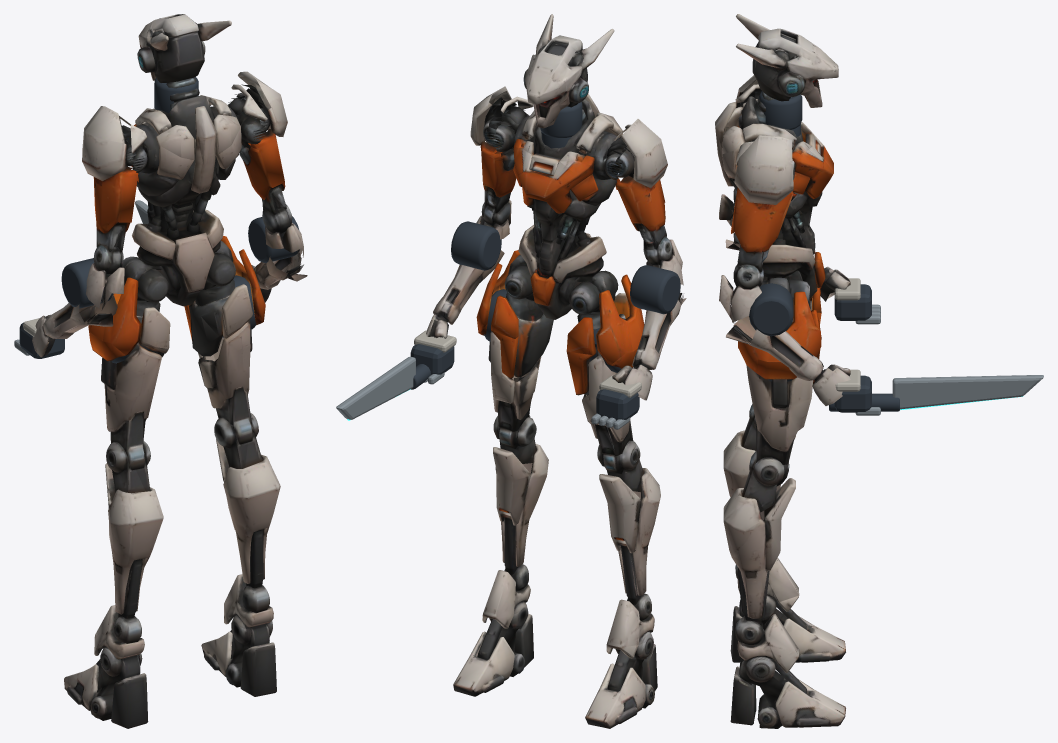
Rendered from assault-mech.glb.
3 renders of one model, left to right at view 1: azimuth 30°, elevation 25°; view 2: azimuth 150°, elevation 25°; view 3: azimuth 270°, elevation 25°, orthographic. The views are drawn at different scales.
Visible parts, largest first — view 1: Torso, Helmet, LeftShinMesh, RightShinMesh, LeftUpperArmMesh, LeftThighMesh, RightThighMesh, RightUpperArmMesh, LeftFootMesh, RightFootMesh, LeftForearmMesh, RightForearmMesh (+4 smaller); view 2: Torso, Helmet, LeftShinMesh, RightShinMesh, LeftUpperArmMesh, RightThighMesh, RightFootMesh, LeftFootMesh, RightUpperArmMesh, LeftThighMesh, LeftForearmMesh, Blade (+6 smaller); view 3: RightShinMesh, Torso, Helmet, RightUpperArmMesh, RightThighMesh, RightFootMesh, Blade, RightForearmMesh, LeftFootMesh, LeftShinMesh, Elbow socket.001, Head_Graphite_frame (+4 smaller).
Boxes of the visible parts, box(x1,y1,x2,y2) form: Torso: box(88, 122, 265, 355); Helmet: box(119, 14, 267, 164); LeftShinMesh: box(94, 452, 163, 662); RightShinMesh: box(216, 422, 280, 630); LeftUpperArmMesh: box(82, 106, 139, 310); LeftThighMesh: box(88, 329, 168, 491); RightThighMesh: box(184, 274, 265, 468); RightUpperArmMesh: box(228, 71, 303, 261); LeftFootMesh: box(64, 647, 148, 728); RightFootMesh: box(201, 605, 276, 696); LeftForearmMesh: box(32, 295, 117, 357); RightForearmMesh: box(251, 252, 307, 302); Torso: box(476, 128, 644, 365); Helmet: box(492, 14, 631, 166); LeftShinMesh: box(599, 460, 660, 656); RightShinMesh: box(482, 438, 548, 619); LeftUpperArmMesh: box(608, 119, 683, 285); RightThighMesh: box(477, 285, 553, 448); RightFootMesh: box(453, 605, 533, 696); LeftFootMesh: box(585, 636, 657, 728); RightUpperArmMesh: box(470, 86, 525, 239); LeftThighMesh: box(567, 348, 643, 472); LeftForearmMesh: box(612, 292, 686, 400); Blade: box(336, 356, 415, 419); RightShinMesh: box(723, 471, 799, 671); Torso: box(716, 117, 833, 364); Helmet: box(715, 14, 838, 168); RightUpperArmMesh: box(719, 135, 795, 323); RightThighMesh: box(738, 348, 820, 496); RightFootMesh: box(730, 658, 845, 728); Blade: box(892, 375, 1043, 409); RightForearmMesh: box(726, 316, 850, 405); LeftFootMesh: box(730, 595, 845, 662); LeftShinMesh: box(723, 420, 799, 602); Elbow socket.001: box(749, 283, 793, 336); Head_Graphite_frame: box(759, 91, 802, 136).
Size of the model in its own units: 0.69 by 1.95 by 0.8818.
Materials: 5 (1 with a texture image).
